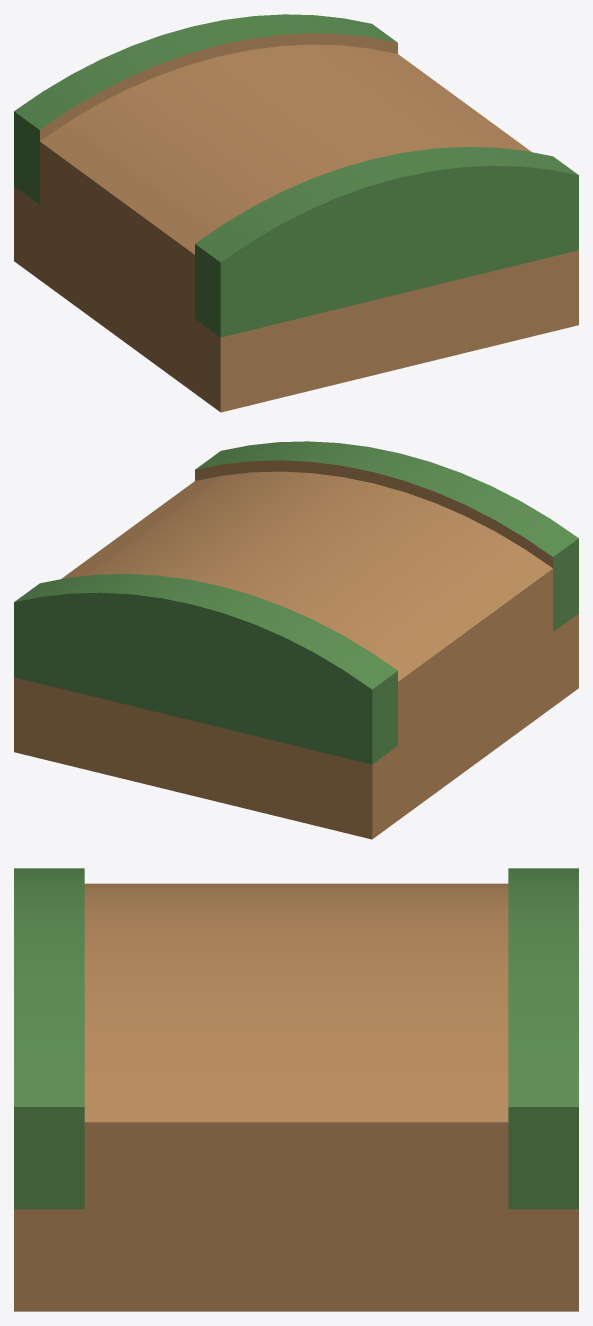
File: towerDefense_083.obj
3 views of the same model, one above another, from view 1: azimuth 30°, elevation 25°; view 2: azimuth 150°, elevation 25°; view 3: azimuth 270°, elevation 25° (orthographic). The views are drawn at different scales.
Parts seen in each view (by area): view 1: Mesh1 Group1 Model; view 2: Mesh1 Group1 Model; view 3: Mesh1 Group1 Model.
Part boxes in pixels (x1=…): Mesh1 Group1 Model: x1=14, y1=14, x2=578, y2=412; Mesh1 Group1 Model: x1=14, y1=441, x2=578, y2=839; Mesh1 Group1 Model: x1=14, y1=868, x2=578, y2=1311.
Size of the model in its own units: 1 by 0.51 by 1.
